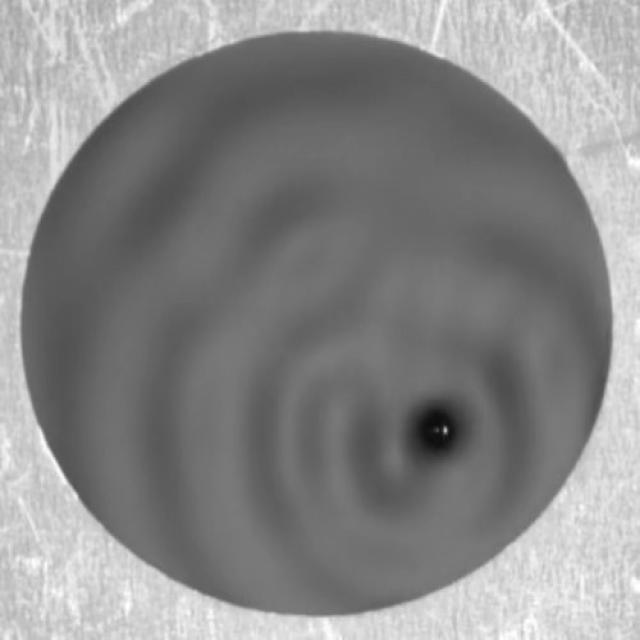droplet: (425, 415, 451, 451)
